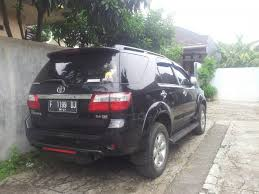plate: (48, 99, 78, 112)
